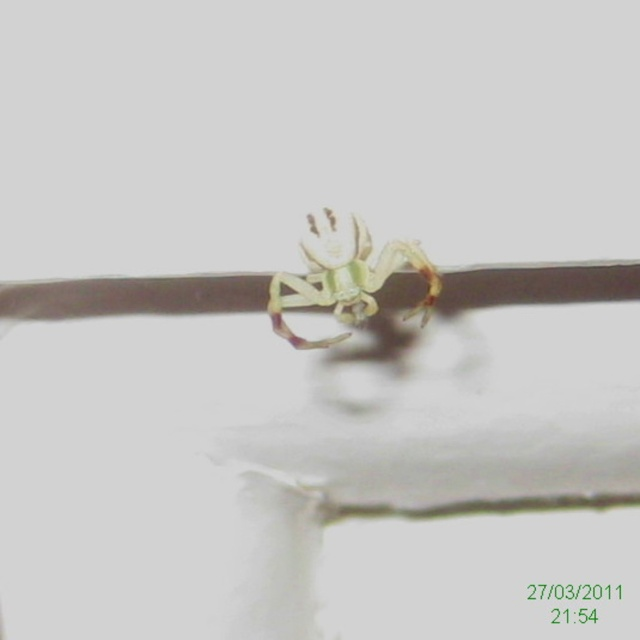Spider: (266, 206, 442, 350)
